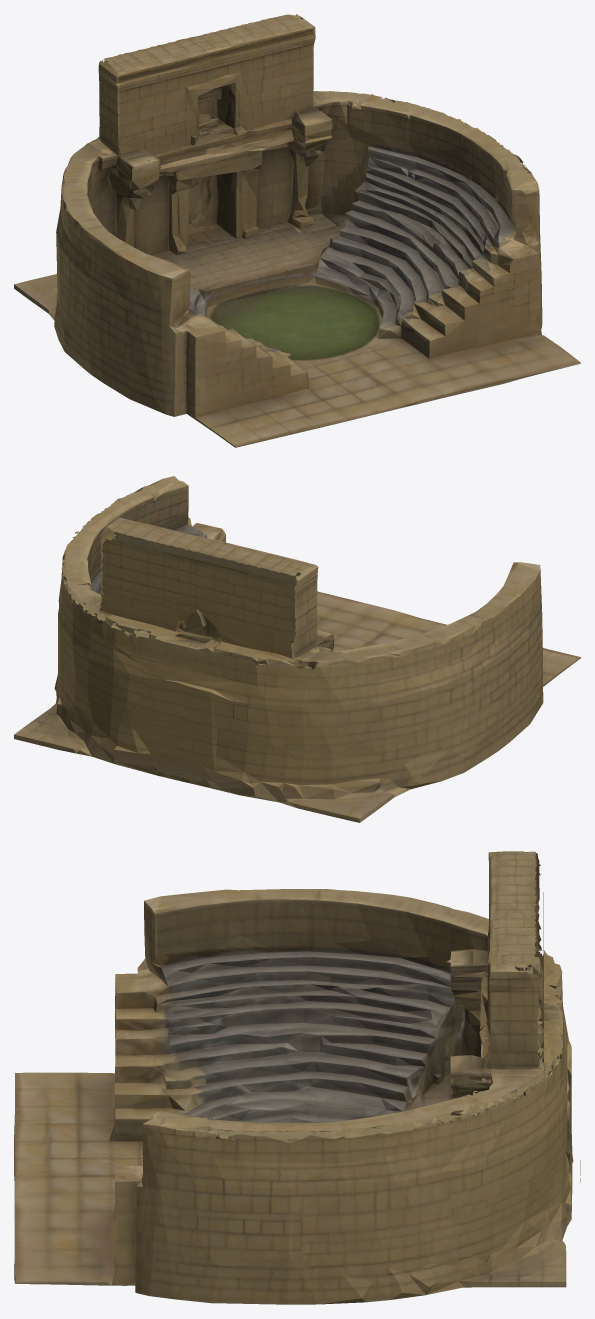
The model's file is Ancient_Amphitheater__0418162133_texture.fbx.
3 renders of one model, top to bottom at view 1: azimuth 30°, elevation 25°; view 2: azimuth 150°, elevation 25°; view 3: azimuth 270°, elevation 25°, orthographic. The views are drawn at different scales.
Visible parts, largest first — view 1: temp; view 2: temp; view 3: temp.
Part boxes in pixels (x1,y1,x2,y2): temp: [14, 14, 580, 447]; temp: [14, 476, 580, 822]; temp: [14, 851, 580, 1304].
Size of the model in its own units: 198 by 103 by 190.
1 material, 1 textured.
